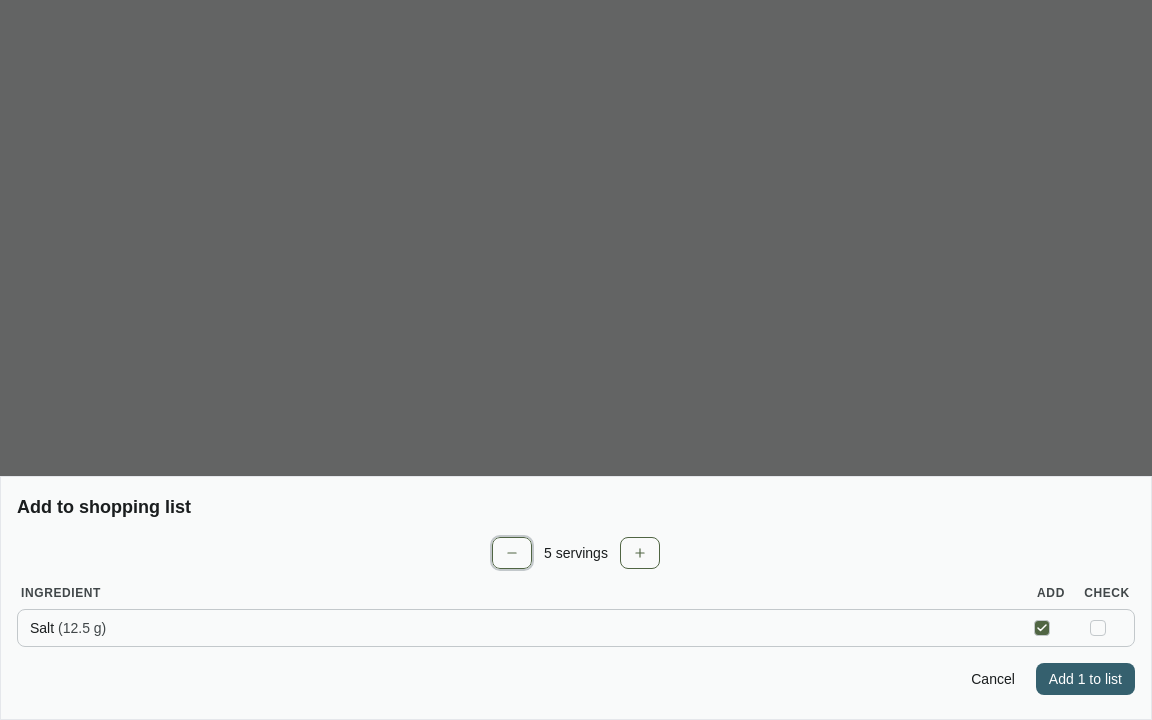
Test: RecipeAddToListSheet — the optional sequence props › opens at the caller’s servings, and the stepper still moves from there
This screenshot has width=1152, height=720.
Expected: the text with test id "recipe-servings-value" reads "5 servings", [544,545,608,561]
Click the button with test id "recipe-servings-decrease" at (512, 553), box [492,537,532,569]
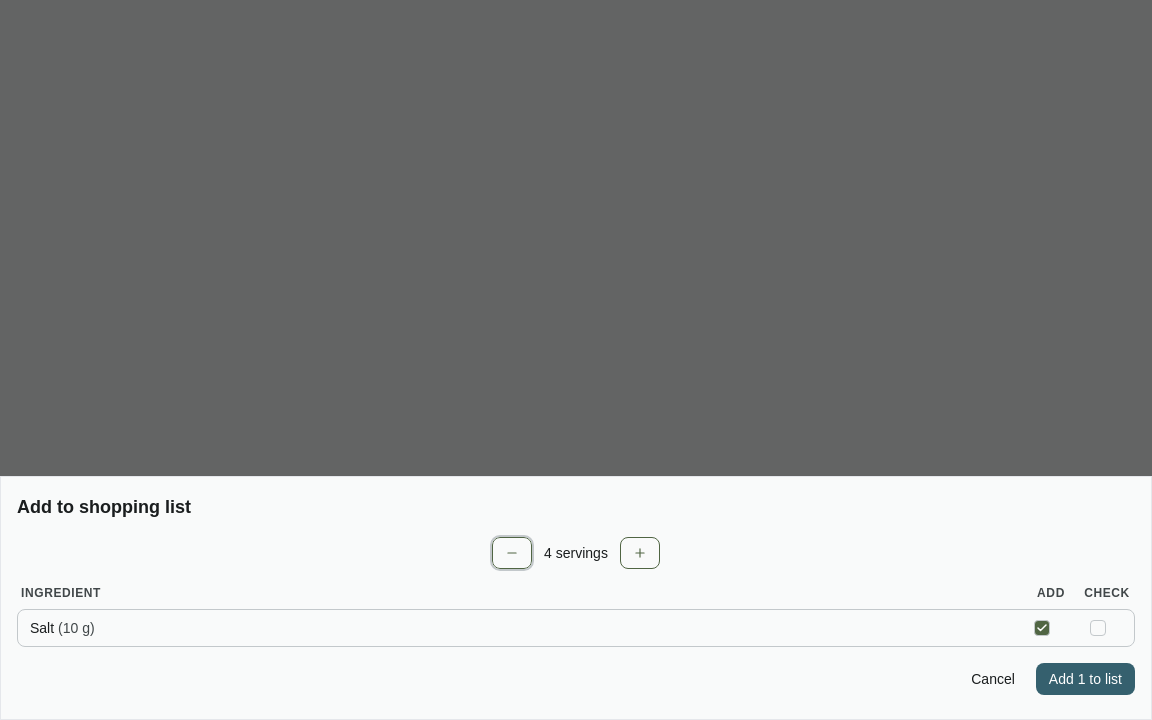
Now the text with test id "recipe-servings-value" reads "4 servings", box [544,545,608,561]
